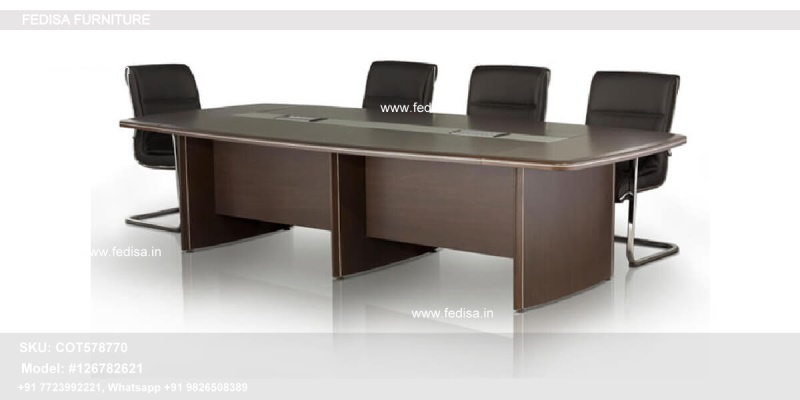conference_table: (120, 103, 688, 313)
